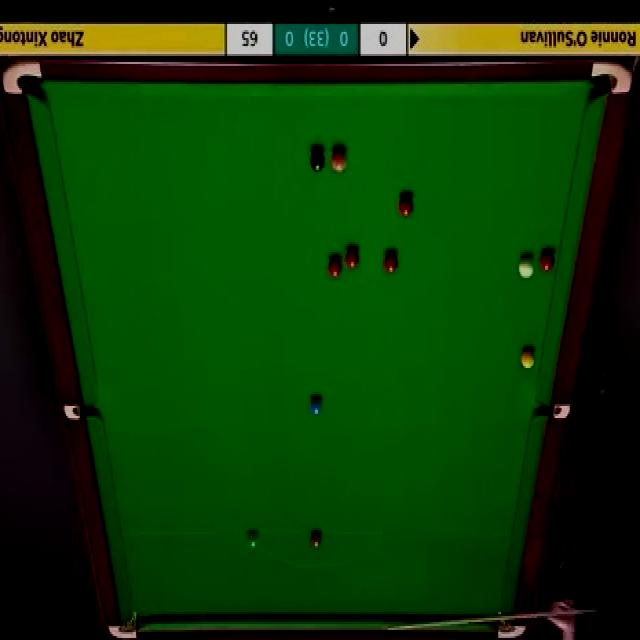black-ball: (309, 148, 325, 174)
blue-ball: (309, 395, 324, 418)
brown-ball: (310, 530, 323, 549)
green-ball: (247, 528, 259, 550)
pink-ball: (329, 146, 348, 174)
red-ball: (382, 248, 398, 276), (397, 194, 415, 218), (344, 243, 360, 270), (540, 248, 555, 274), (328, 254, 342, 279)
white-ball: (518, 255, 536, 283)
yellow-ball: (521, 346, 536, 370)
